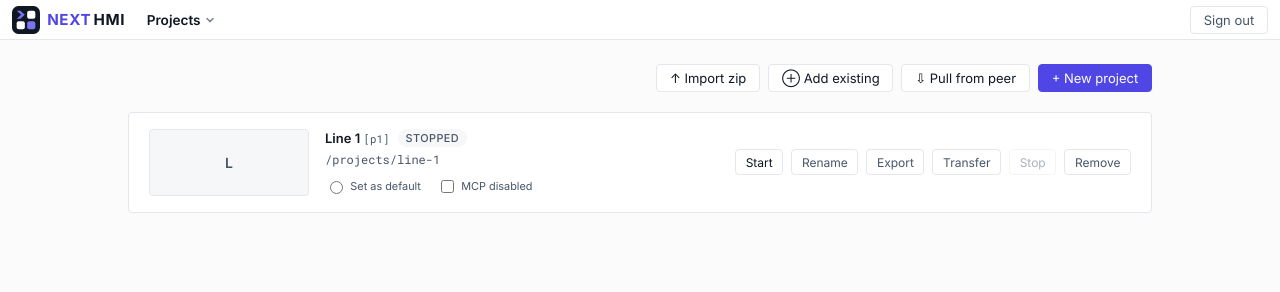
it: projects dashboard › reports a failed supervisor action in a dismissible banner
Click the button "Start" at (759, 162), box [735,149,783,175]
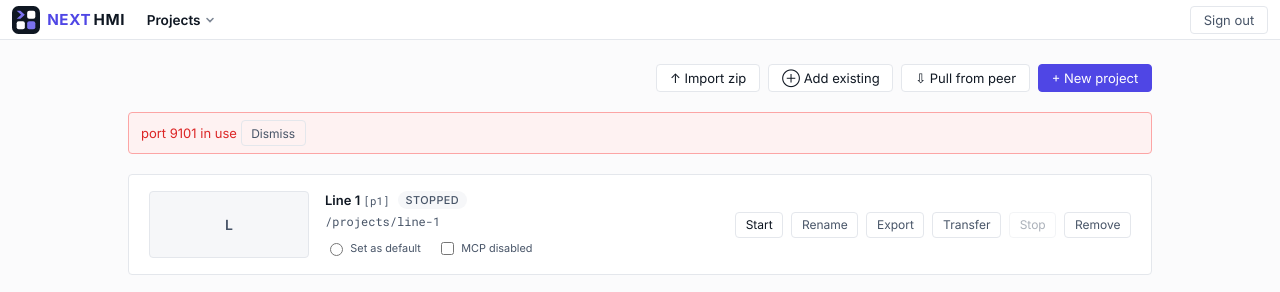
Check: the text "port 9101 in use" is shown, box [141,125,237,141]
Click the button "Dismiss" at (273, 133), box [240,120,306,146]
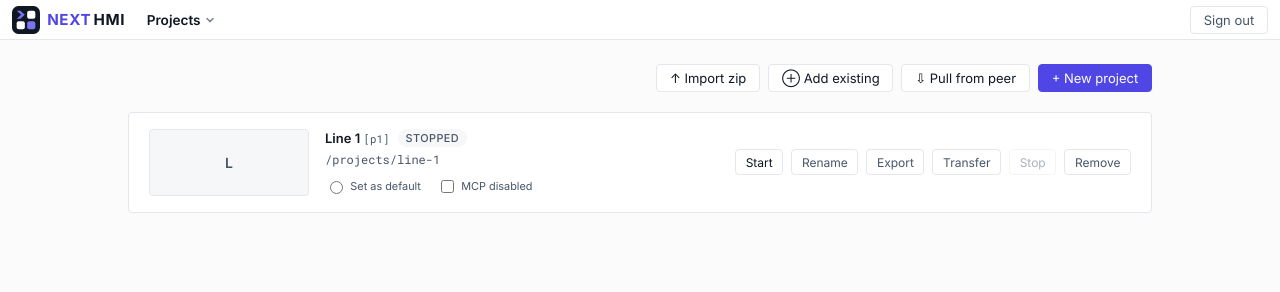
Check: the text "port 9101 in use" is gone
